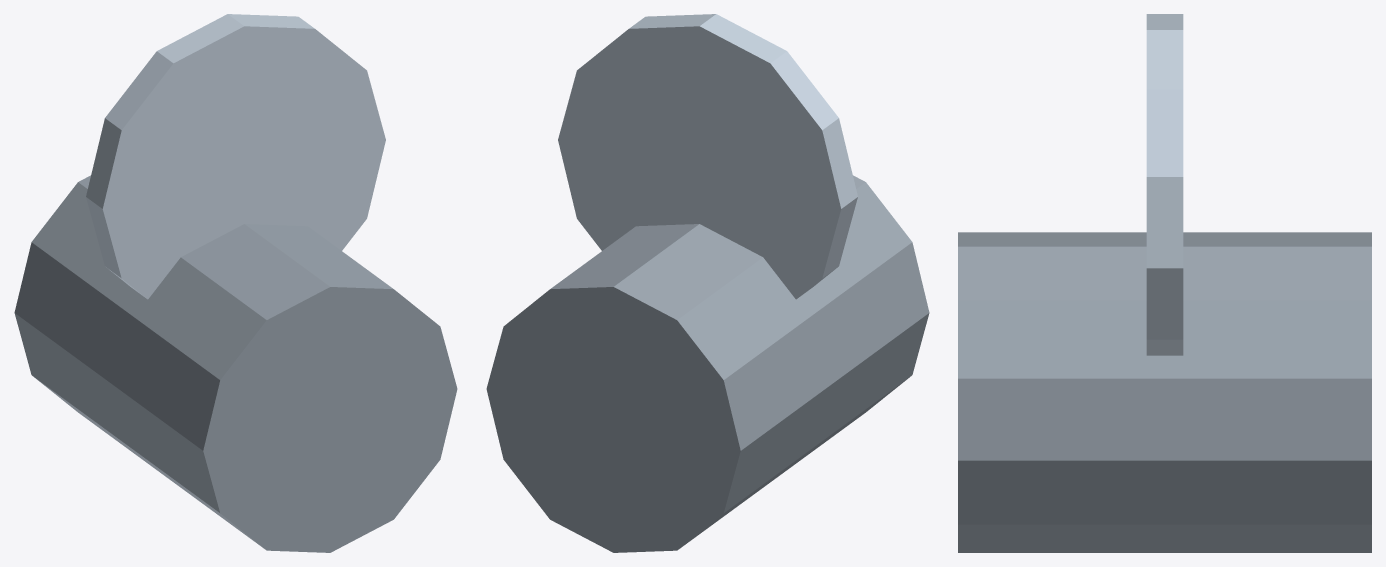
The model's file is papelera.glb.
The picture shows the model from 3 angles, left to right: view 1: azimuth 30°, elevation 25°; view 2: azimuth 150°, elevation 25°; view 3: azimuth 270°, elevation 25°; orthographic projection. The views are drawn at different scales.
Parts seen in each view (by area): view 1: TrashCan_1, Top_2; view 2: TrashCan_1, Top_2; view 3: TrashCan_1, Top_2.
Boxes of the visible parts, box(x1,y1,x2,y2) form: TrashCan_1: box(14, 175, 457, 552); Top_2: box(86, 14, 385, 299); TrashCan_1: box(486, 175, 929, 552); Top_2: box(558, 14, 857, 299); TrashCan_1: box(958, 232, 1371, 552); Top_2: box(1146, 14, 1183, 355).
Bounding box in the file's own units: 0.78 × 1.22 × 0.9.
